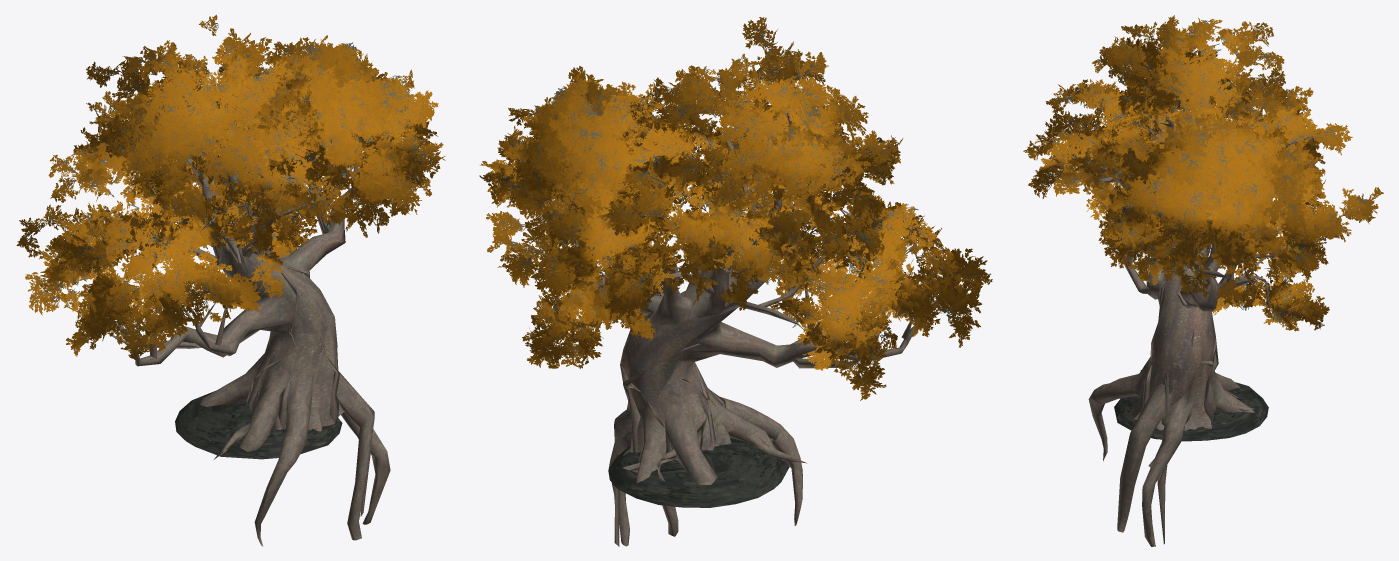
The picture shows the model from 3 angles, left to right: view 1: azimuth 30°, elevation 25°; view 2: azimuth 150°, elevation 25°; view 3: azimuth 270°, elevation 25°; orthographic projection. The views are drawn at different scales.
Parts seen in each view (by area): view 1: SM_DR_Hero_Tree_1_LOD0; view 2: SM_DR_Hero_Tree_1_LOD0; view 3: SM_DR_Hero_Tree_1_LOD0.
Part boxes in pixels (x1,y1,x2,y2): SM_DR_Hero_Tree_1_LOD0: (16, 14, 445, 546); SM_DR_Hero_Tree_1_LOD0: (479, 17, 992, 546); SM_DR_Hero_Tree_1_LOD0: (1023, 15, 1383, 546).
Bounding box in the file's own units: 23.17 × 27.53 × 19.46.
Materials: 3 (3 with a texture image).
